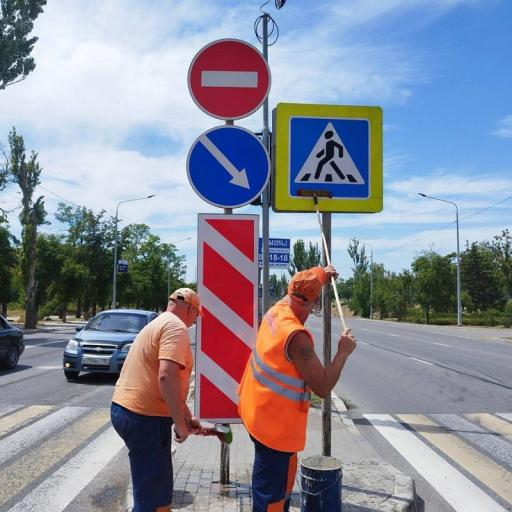book: (63, 310, 158, 379)
chair: (364, 413, 512, 512), (0, 405, 124, 512)
glass_wall: (307, 316, 512, 512), (0, 326, 195, 512)
